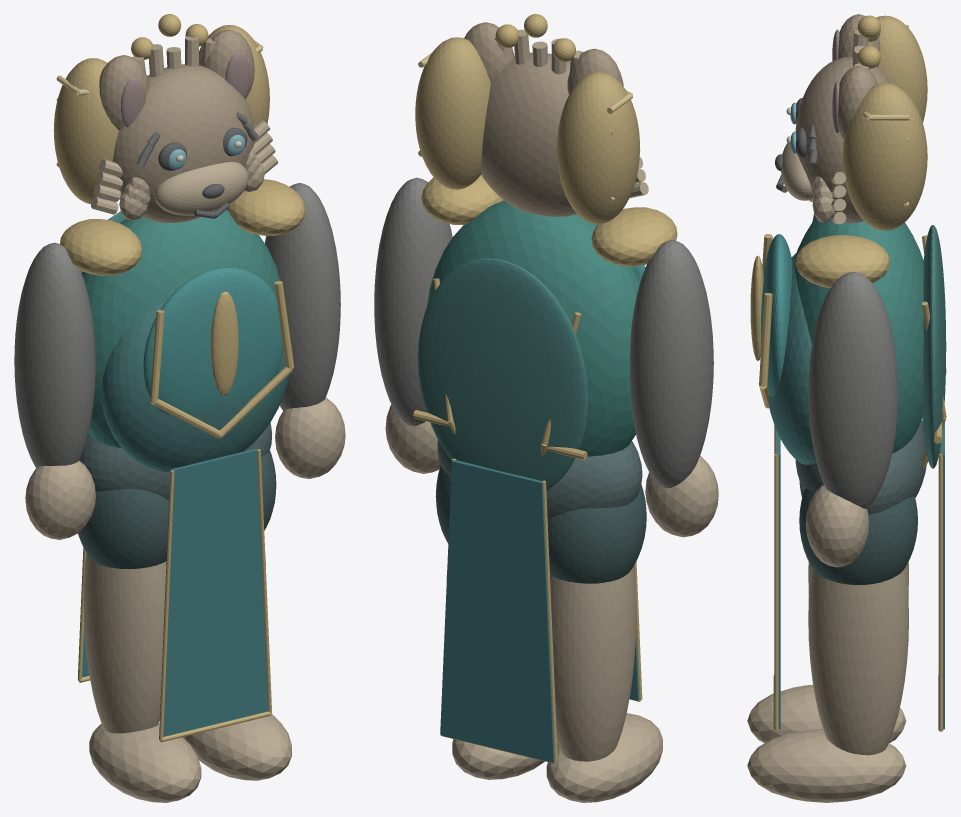
The model's file is high_prototype (2).glb.
3 views of the same model, side by side, from view 1: azimuth 30°, elevation 25°; view 2: azimuth 150°, elevation 25°; view 3: azimuth 270°, elevation 25° (orthographic). The views are drawn at different scales.
Parts seen in each view (by area): view 1: front_hanging_fabric_062, arm_-1_006, torso_001, chest_armor_055, leg_-1_004, belly_clothing_003, head_016, arm_1_012, paw_-1_005, gold_headdress_side_-1_070, short_leg_-1_060, paw_1_011 (+18 smaller); view 2: back_coat_051, back_hanging_fabric_066, torso_001, arm_-1_006, leg_-1_004, arm_1_012, head_016, gold_headdress_side_-1_070, gold_headdress_side_1_076, short_leg_-1_060, paw_-1_005, hips_002 (+10 smaller); view 3: arm_1_012, leg_1_010, gold_headdress_side_1_076, torso_001, paw_1_011, short_leg_1_061, belly_clothing_003, back_coat_051, head_016, hand_1_013, gold_shoulder_059, chest_armor_055 (+15 smaller).
Boxes of the visible parts, x1,y1,x2,y2 form: front_hanging_fabric_062: [159, 448, 268, 737]; arm_-1_006: [14, 242, 95, 467]; torso_001: [82, 209, 280, 448]; chest_armor_055: [143, 267, 283, 414]; leg_-1_004: [83, 553, 166, 733]; belly_clothing_003: [101, 301, 289, 472]; head_016: [112, 64, 253, 222]; arm_1_012: [264, 183, 340, 410]; paw_-1_005: [89, 723, 201, 802]; gold_headdress_side_-1_070: [53, 58, 118, 204]; short_leg_-1_060: [78, 489, 168, 569]; paw_1_011: [183, 713, 291, 780]; back_coat_051: [418, 258, 588, 490]; back_hanging_fabric_066: [440, 459, 554, 762]; torso_001: [427, 200, 640, 456]; arm_-1_006: [630, 240, 713, 487]; leg_-1_004: [550, 567, 636, 761]; arm_1_012: [374, 177, 452, 425]; head_016: [481, 52, 576, 216]; gold_headdress_side_-1_070: [557, 72, 639, 223]; gold_headdress_side_1_076: [415, 37, 490, 189]; short_leg_-1_060: [547, 484, 646, 583]; paw_-1_005: [546, 713, 662, 802]; hips_002: [437, 440, 642, 519]; arm_1_012: [808, 271, 898, 508]; leg_1_010: [808, 567, 908, 755]; gold_headdress_side_1_076: [842, 83, 927, 230]; torso_001: [794, 218, 923, 453]; paw_1_011: [747, 729, 906, 802]; short_leg_1_061: [799, 488, 917, 585]; belly_clothing_003: [768, 253, 816, 464]; back_coat_051: [922, 225, 946, 468]; head_016: [795, 56, 891, 223]; hand_1_013: [805, 485, 869, 567]; gold_shoulder_059: [795, 235, 890, 288]; chest_armor_055: [761, 234, 792, 397].
Bounding box in the file's own units: 0.69 × 1.58 × 0.3759.
